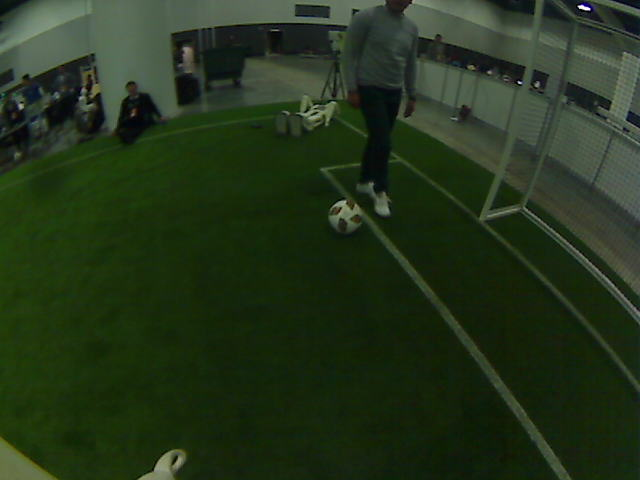ball: (326, 196, 366, 236)
goalpost: (461, 160, 501, 220)
robot: (285, 98, 300, 133)
